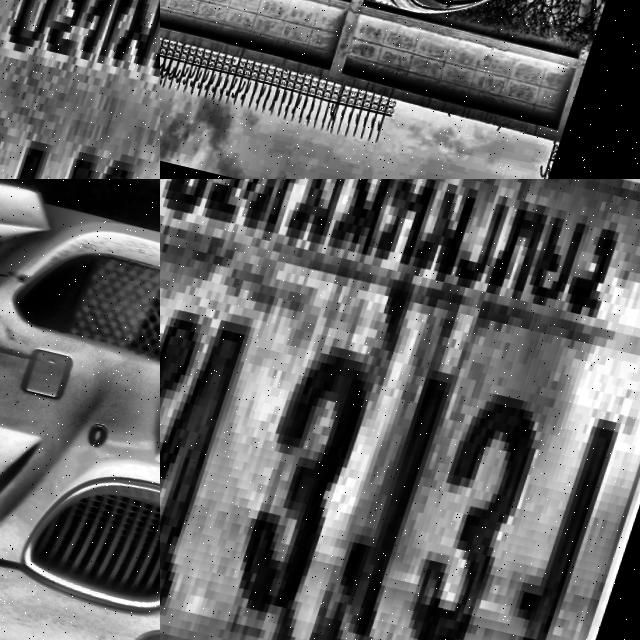license-plate: (160, 179, 640, 640), (0, 0, 160, 179)
